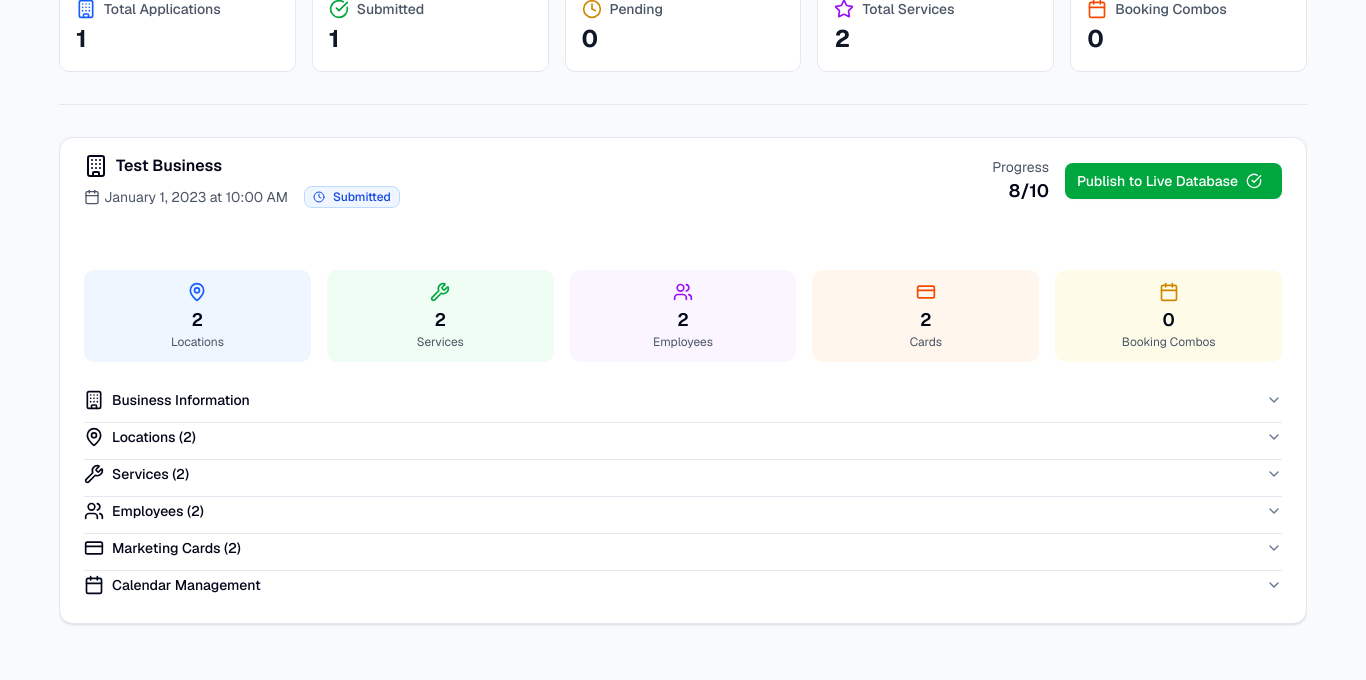
Test: AdminReviewClient › Card Details › should display card types and CTAs
(page scrolled)
Click the button "Marketing Cards (2)": (170, 548) [84, 534, 1282, 570]
(page scrolled)
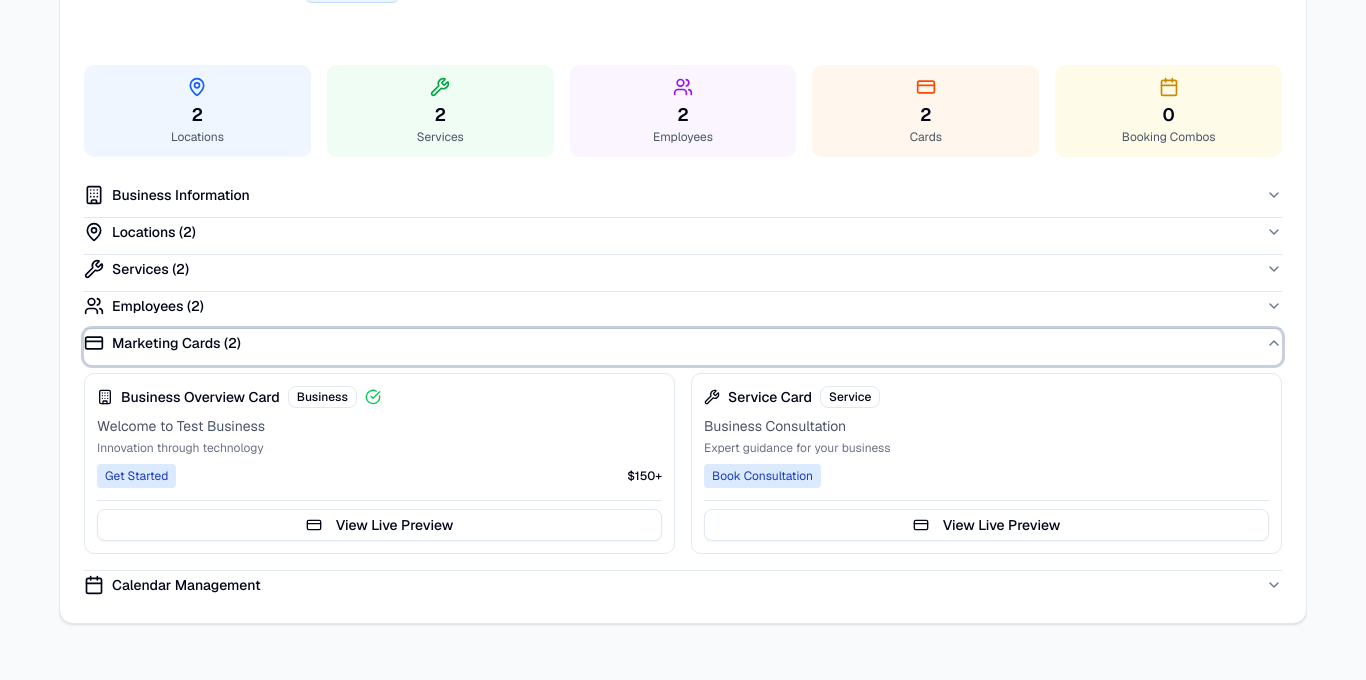
Now the element with test id "card-card-1" shows "Business Overview Card", box [121, 388, 280, 406]
Now the element with test id "card-card-1" shows "Welcome to Test Business", box [97, 417, 265, 435]
Now the element with test id "card-card-1" shows "Get Started", box [105, 468, 168, 484]
